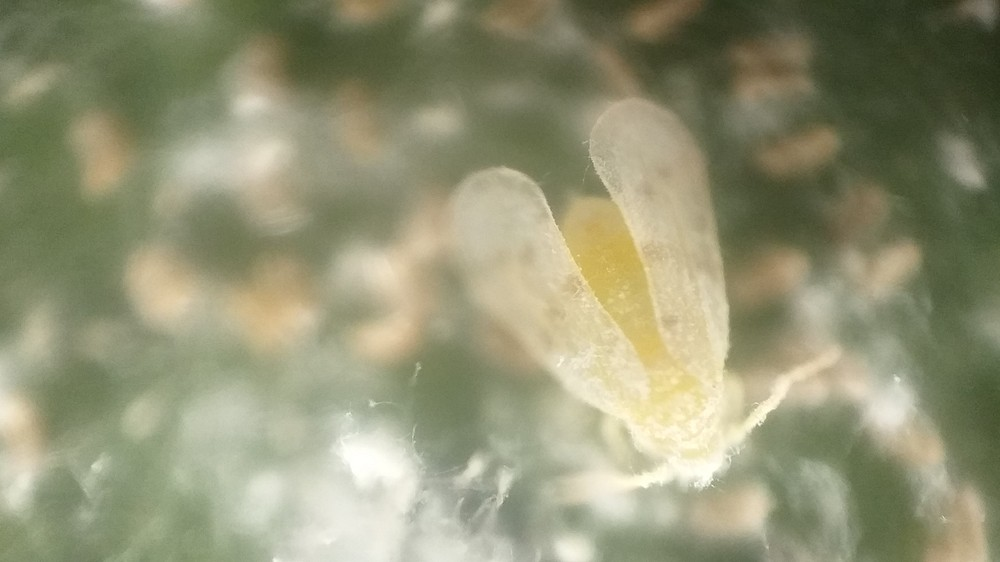Mosca Blanca: (417, 95, 868, 529)
